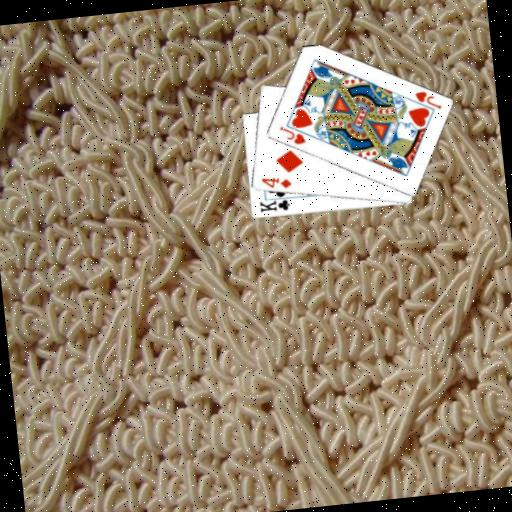4D: (258, 173, 294, 193)
JH: (411, 87, 443, 114), (276, 121, 307, 148)
KC: (256, 193, 295, 215)
